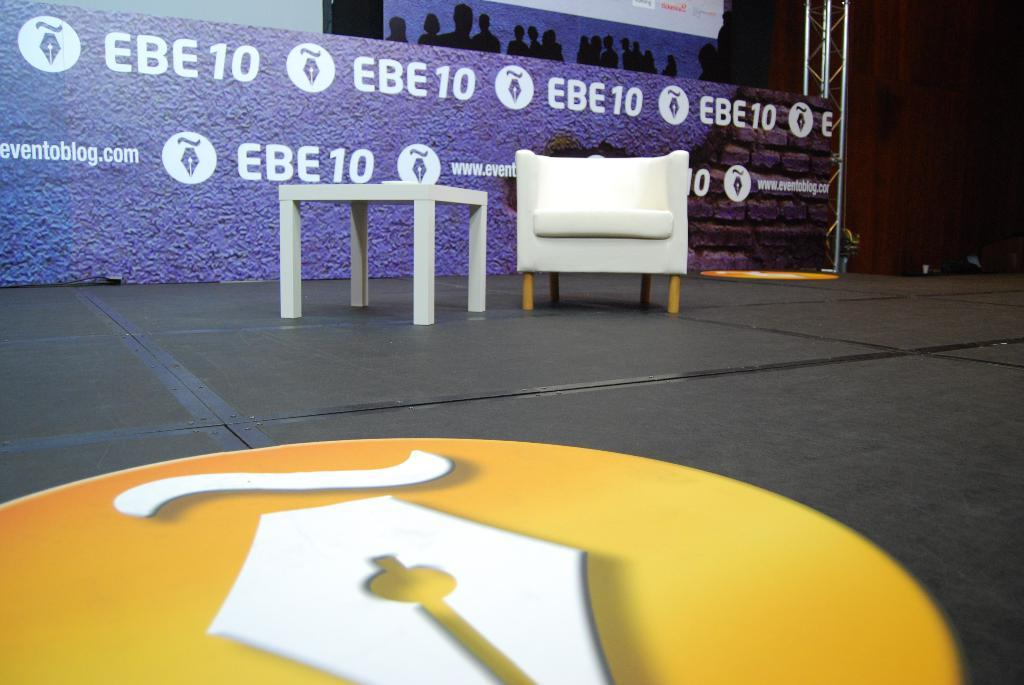Chair: (522, 125, 702, 310)
